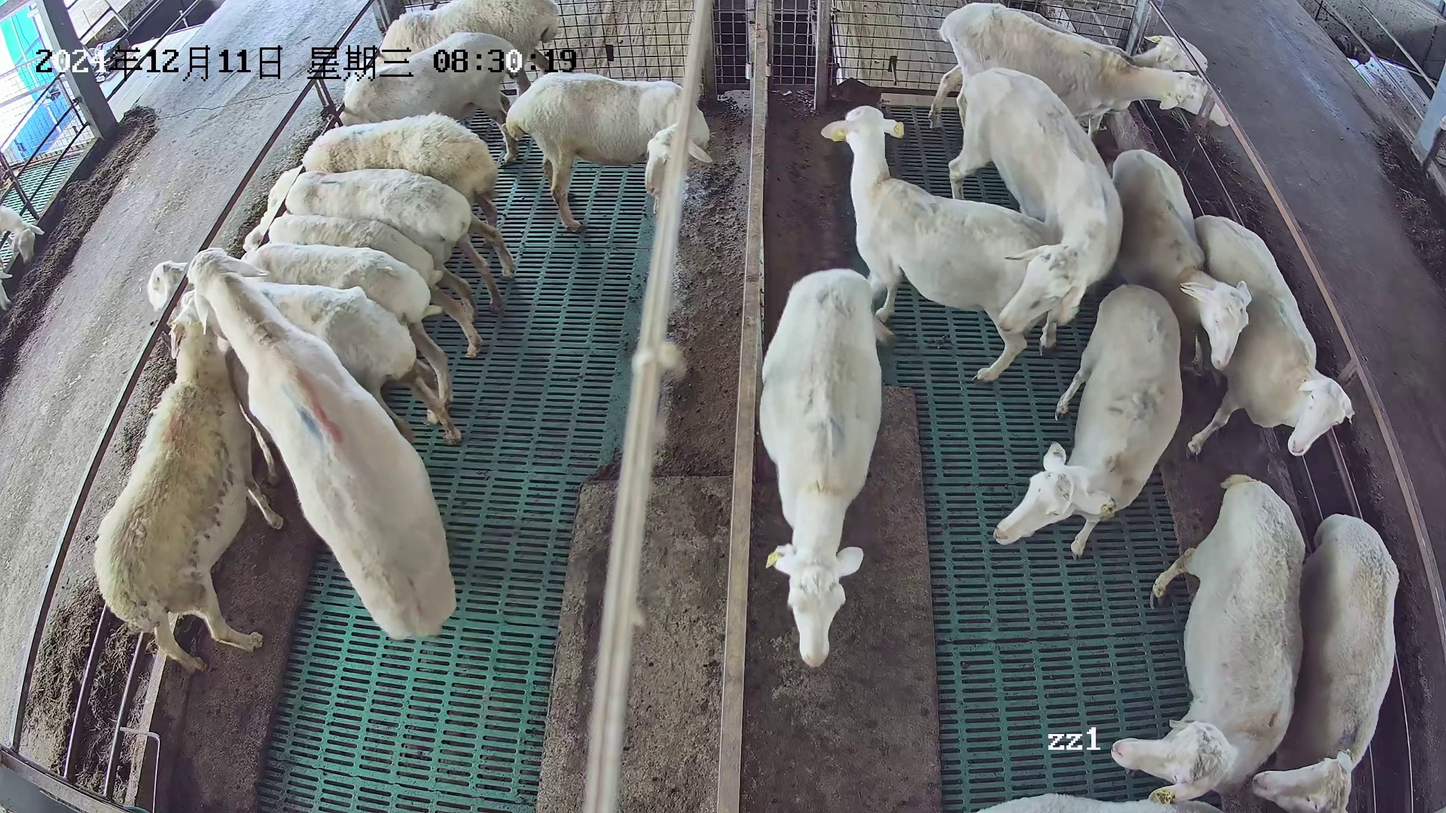Smounting: (146, 246, 459, 642)
mounted: (212, 329, 285, 483)
